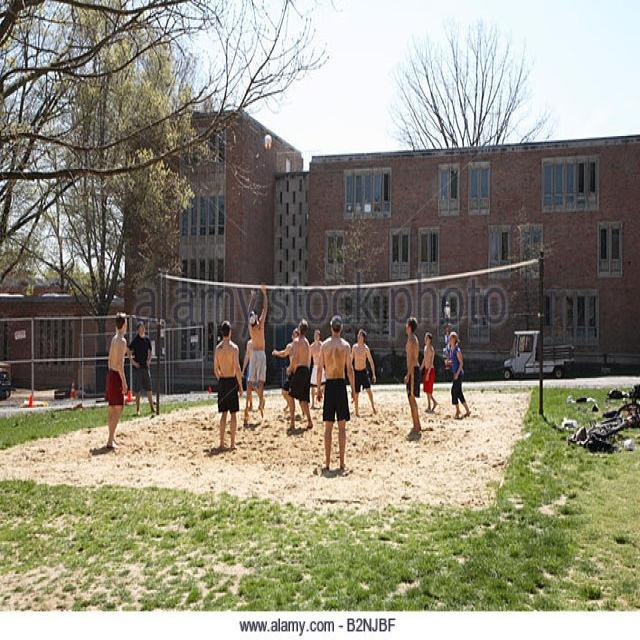body: (314, 312, 357, 474), (211, 318, 244, 451), (102, 309, 130, 451), (242, 279, 270, 421), (284, 315, 315, 432), (124, 320, 160, 420), (347, 326, 378, 416), (270, 326, 301, 409), (401, 315, 422, 435), (448, 331, 472, 421), (240, 336, 267, 414), (417, 329, 439, 414), (309, 327, 328, 412)
